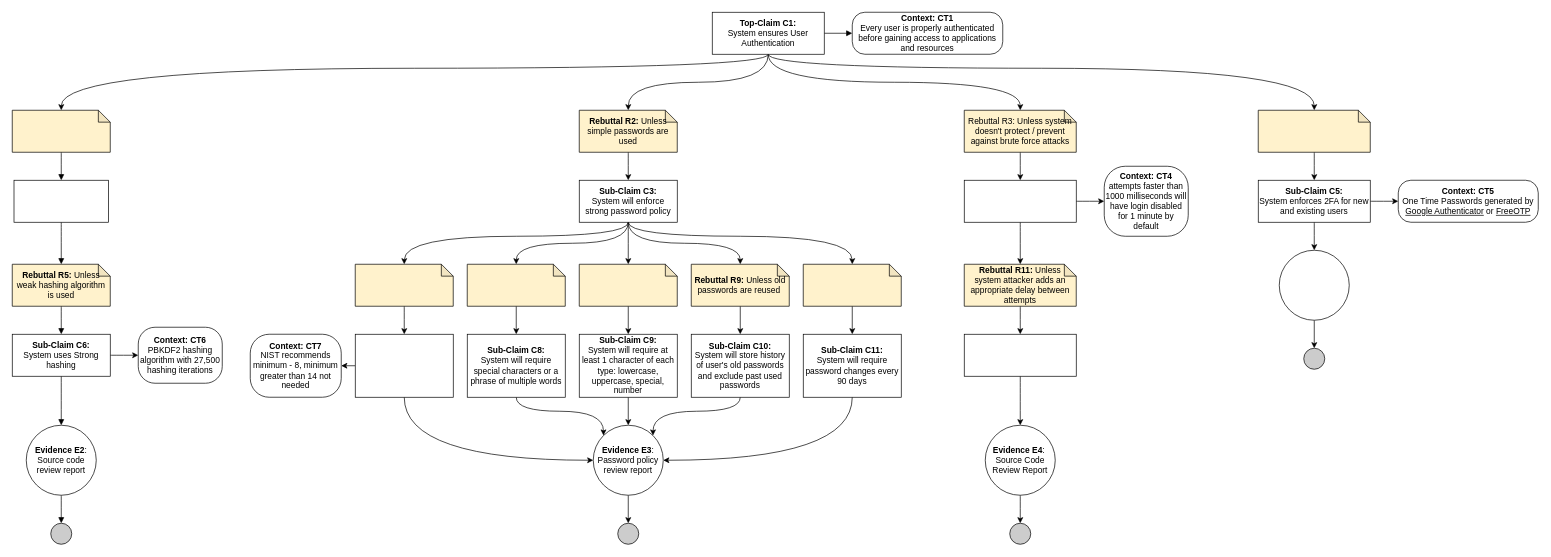
Some shapes in this 1551 by 557 pixel diagram are drawn without their labels. Here are the shapes that lost their labels. From the top down, the centre of each, then its label:
At point (61, 131): "Rebuttal R1: Unless passwords are stored in plain text".
At point (1314, 131): "Rebuttal R4: Unless credentials are obtained externally".
At point (60, 201): "Sub-Claim C2: System will salt and hash passwords before storing".
At point (1020, 201): "Sub-Claim C4: System will detect abnormally quick login attempt speed".
At point (404, 285): "Rebuttal R6: Unless passwords are short".
At point (516, 285): "Rebuttal R7: Unless passwords are simple single dictionary words".
At point (628, 285): "Rebuttal R8: Unless little or no character type diversity is used".
At point (852, 285): "Rebuttal R10: Unless passwords are never changed".
At point (1314, 285): "Evidence E1: 2FA Policy Review Report".
At point (404, 365): "Sub-Claim C7: System will require a minimum of 8 - 14 character passwords".
At point (1020, 355): "Sub-Claim C12: System will limit max login failures to 10".
